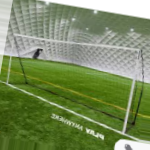goals: (7, 31, 143, 135)
